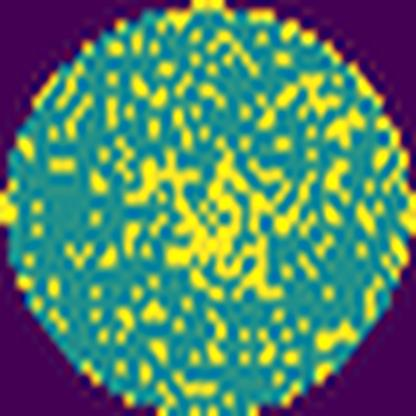Center: (125, 134, 319, 309)
